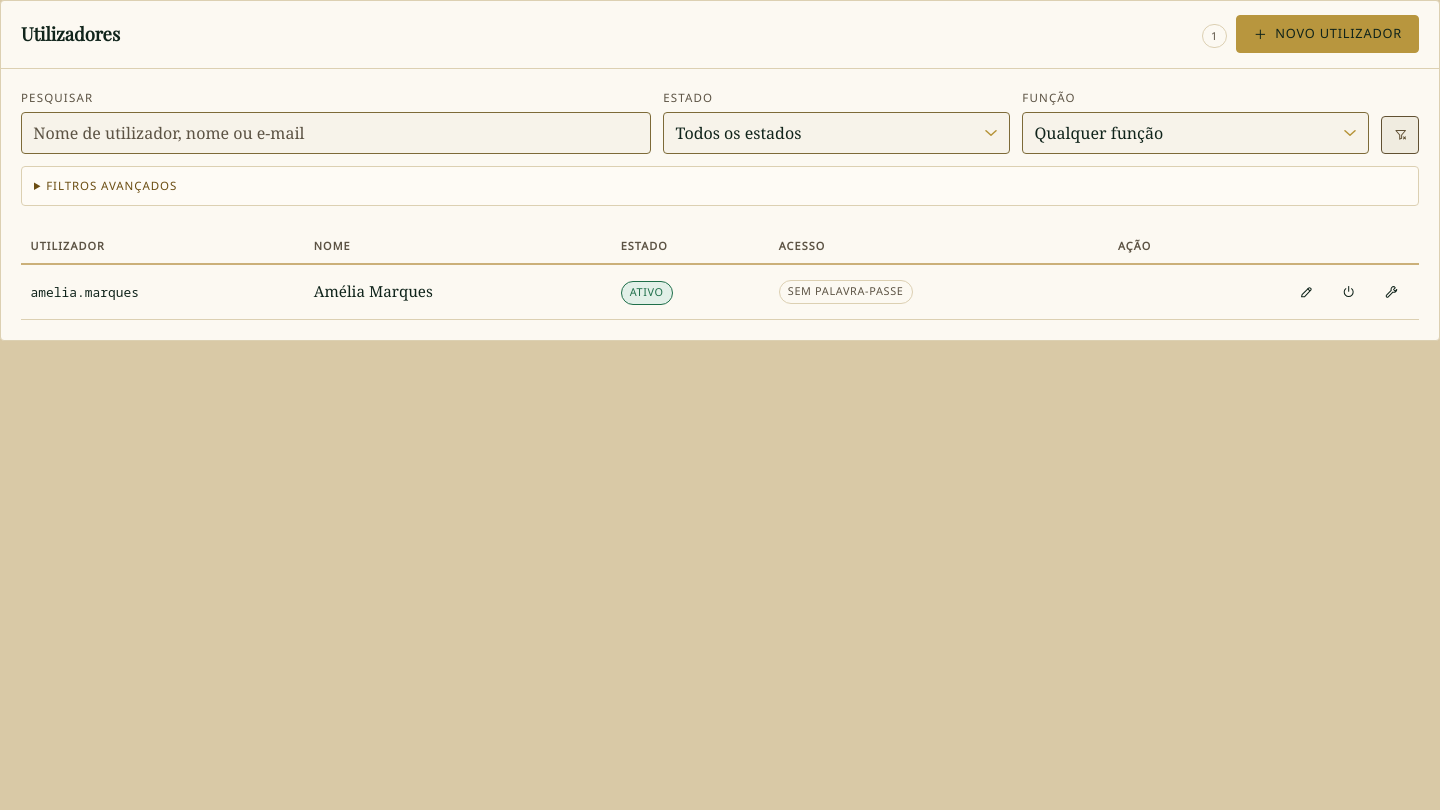
Test case: UsersList (Configurações → Utilizadores) › issues no write when the toggle is clicked but the confirmation is not accepted
Expected: the text "amelia.marques" is shown, [31,283,139,301]
Step 1. Click the button with test id "user-toggle-active" → (1349, 292), box [1331,274,1367,310]
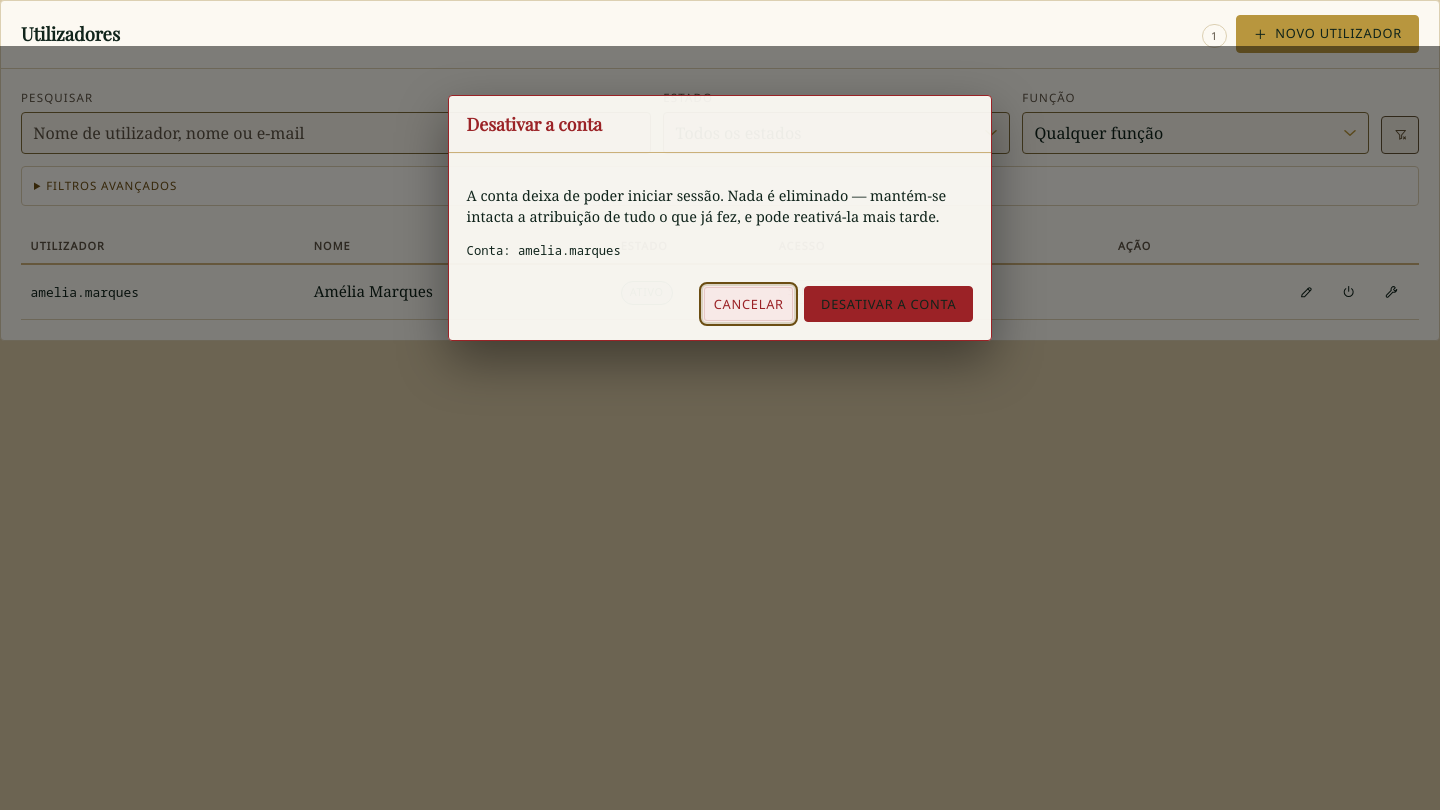
Expected: the submit button is shown, [804,286,973,322]
Step 2. Press Escape
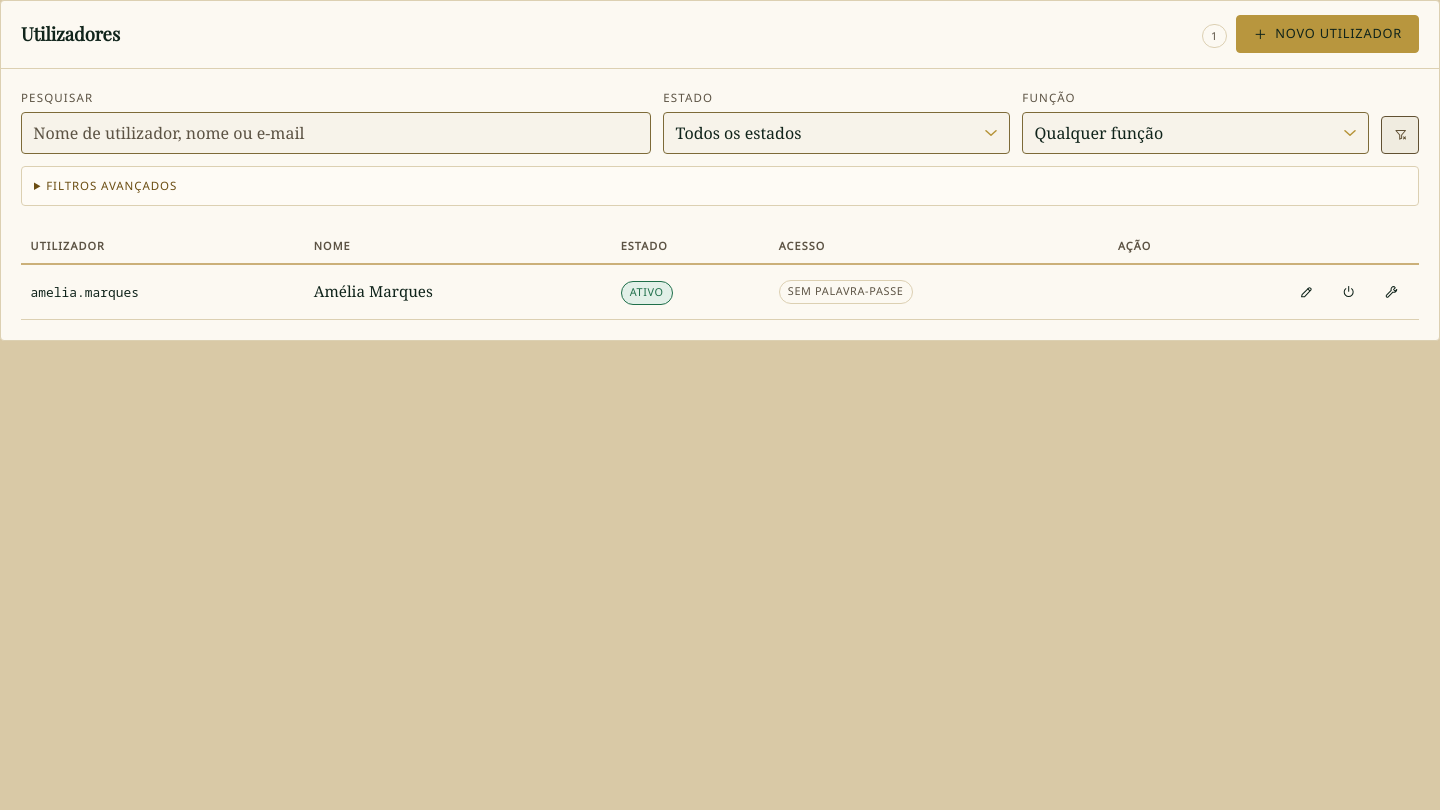
Expected: the dialog is gone
